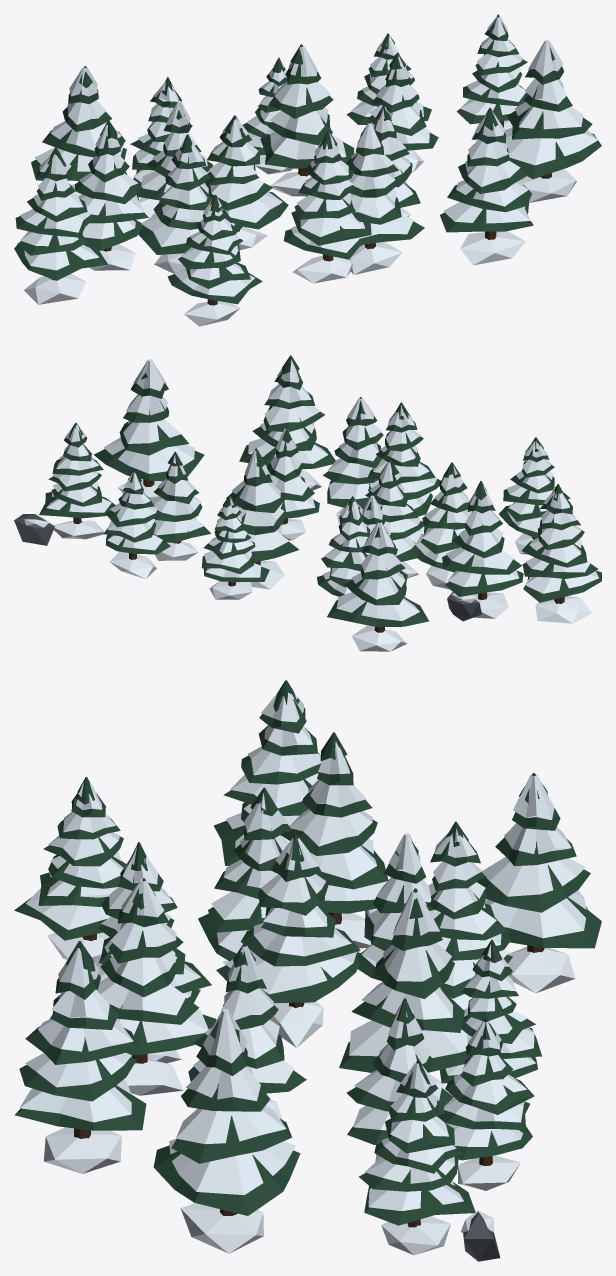
Rendered from Frontier_Grove_Near_A.fbx.
3 views of the same model, one above another, from view 1: azimuth 30°, elevation 25°; view 2: azimuth 150°, elevation 25°; view 3: azimuth 270°, elevation 25° (orthographic). The views are drawn at different scales.
Parts seen in each view (by area): view 1: Frontier_Grove_Near_A; view 2: Frontier_Grove_Near_A; view 3: Frontier_Grove_Near_A.
Boxes of the visible parts, <box> form: Frontier_Grove_Near_A: <box>14,14,601,326</box>; Frontier_Grove_Near_A: <box>14,355,601,651</box>; Frontier_Grove_Near_A: <box>14,680,601,1261</box>.
Size of the model in its own units: 3209 by 848 by 1943.
